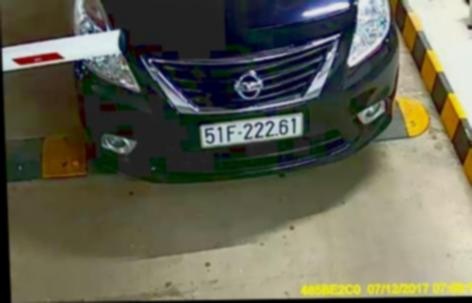License_Plate: (195, 114, 308, 151)
